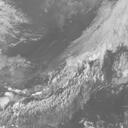cyclone: (42, 39, 95, 103)
